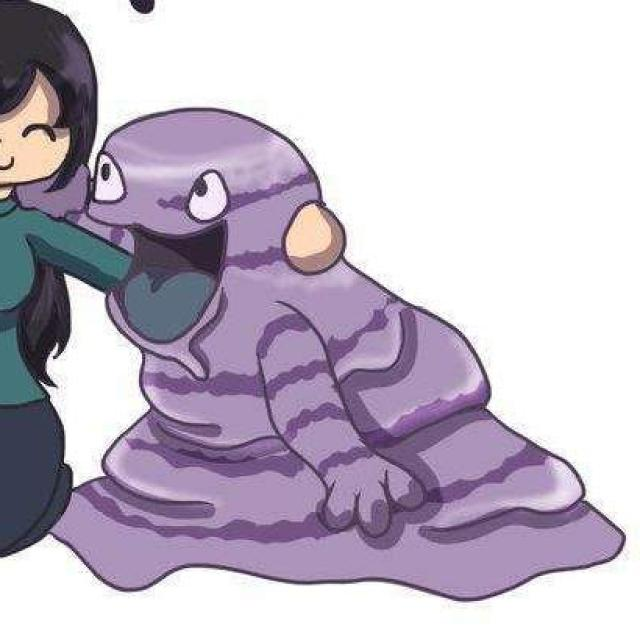Grimer: (104, 115, 488, 538)
